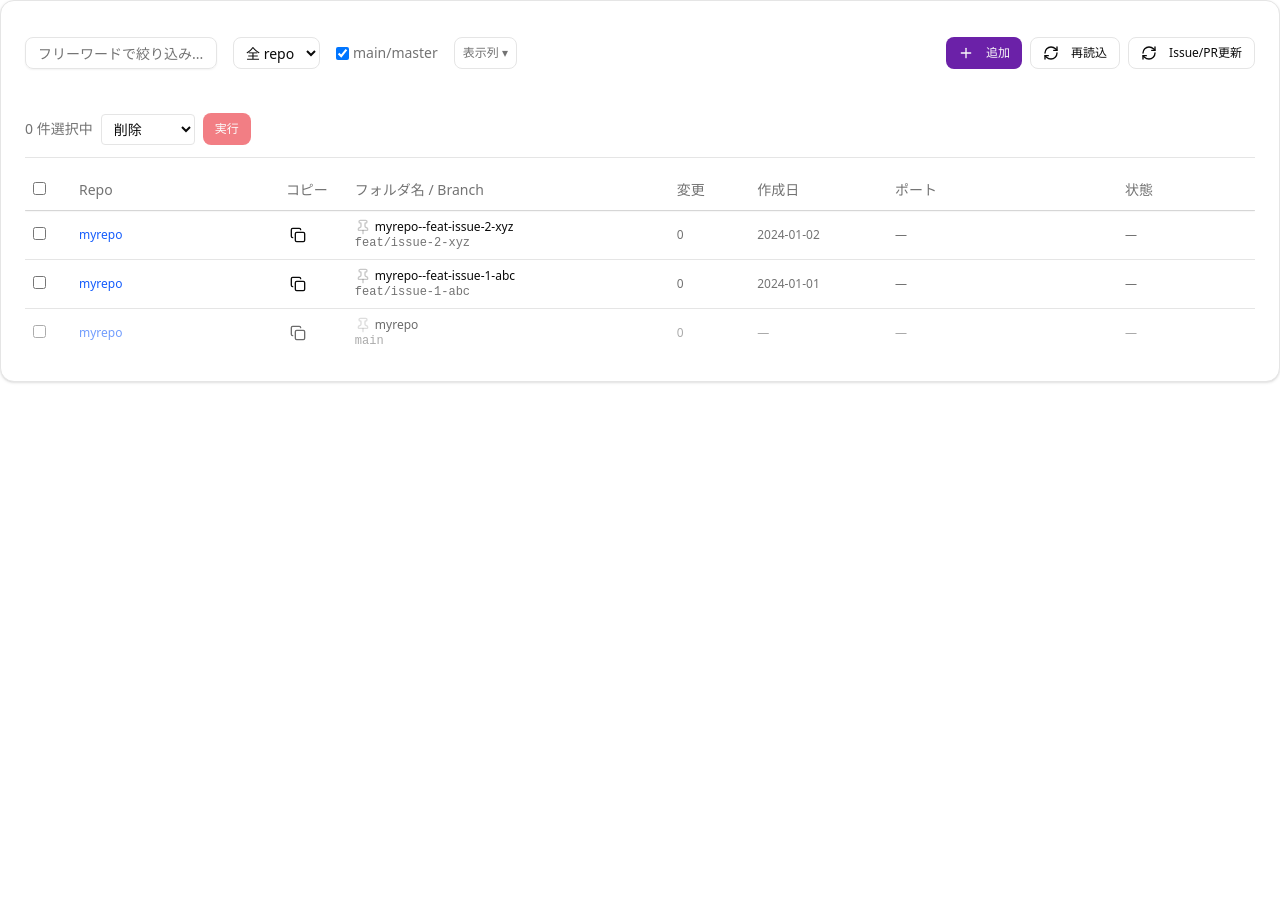
it: TreesPage - main は削除対象外 › main と非 main を選択して削除すると非 main のみ確認に出る
Click the checkbox named "myrepo/myrepo を選択". click: (40, 331)
box: [33, 324, 46, 338]
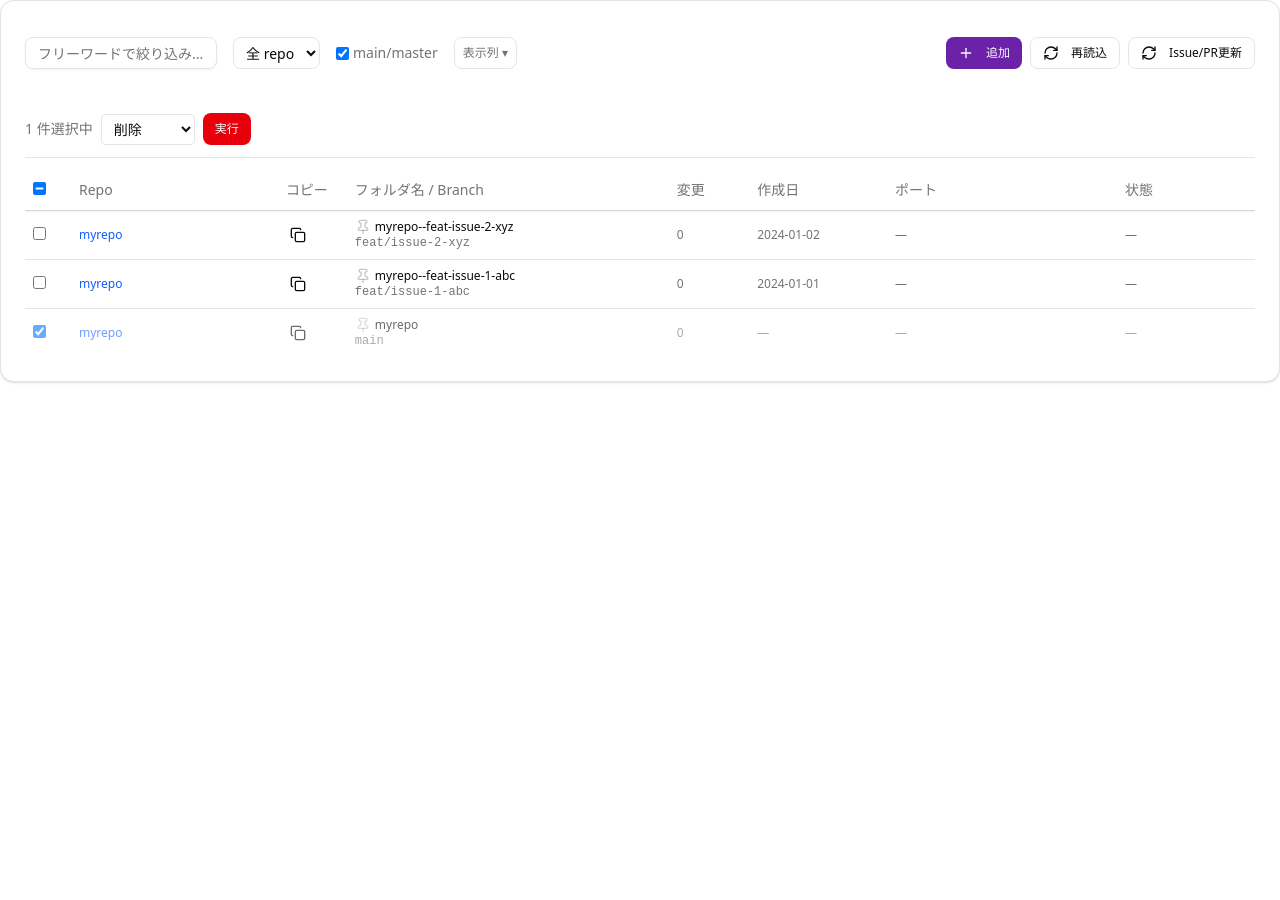
Click the checkbox named "myrepo/myrepo--feat-issue-1-abc を選択". click: (40, 282)
box: [33, 276, 46, 288]
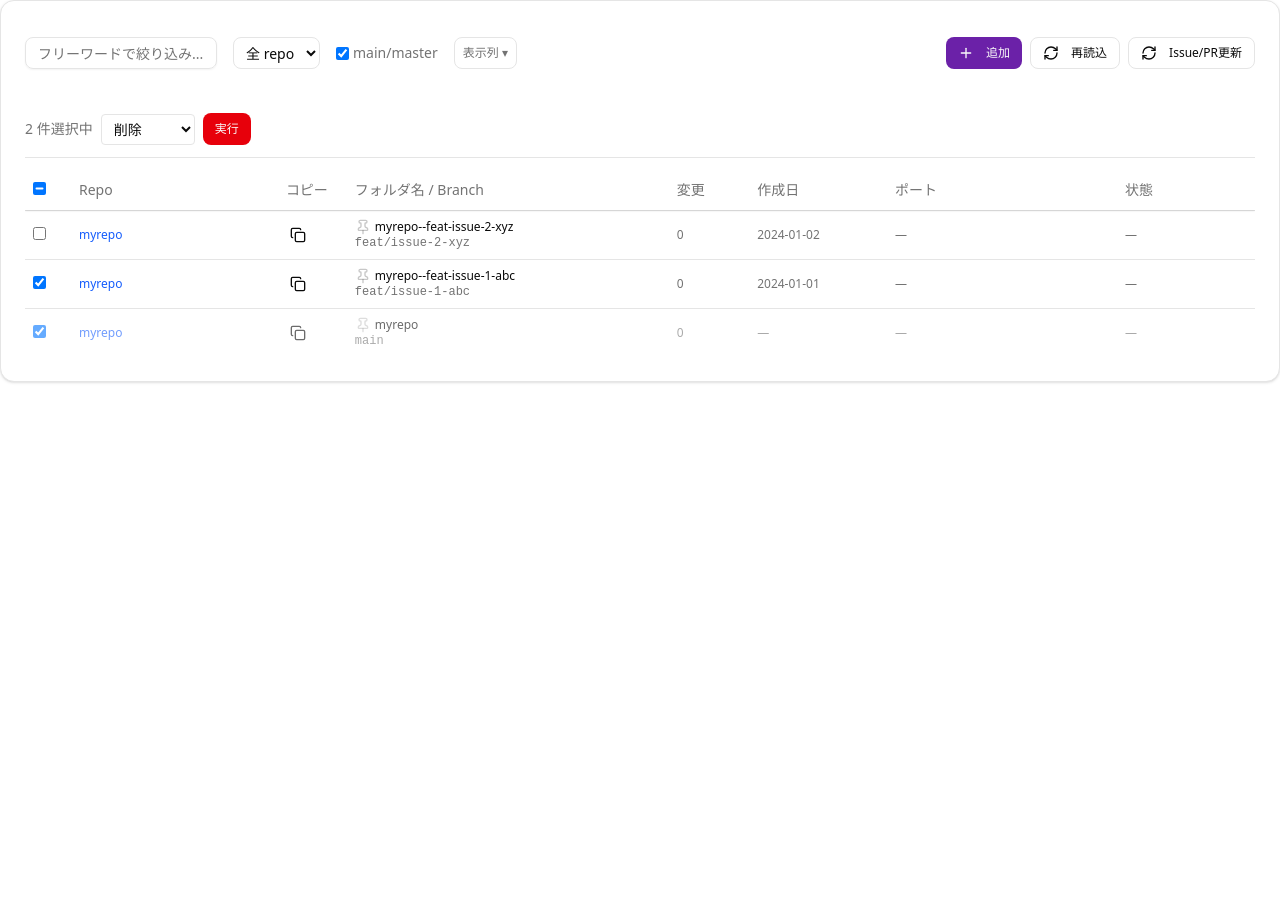
Click the button "実行". click: (227, 129)
box: [203, 113, 251, 145]
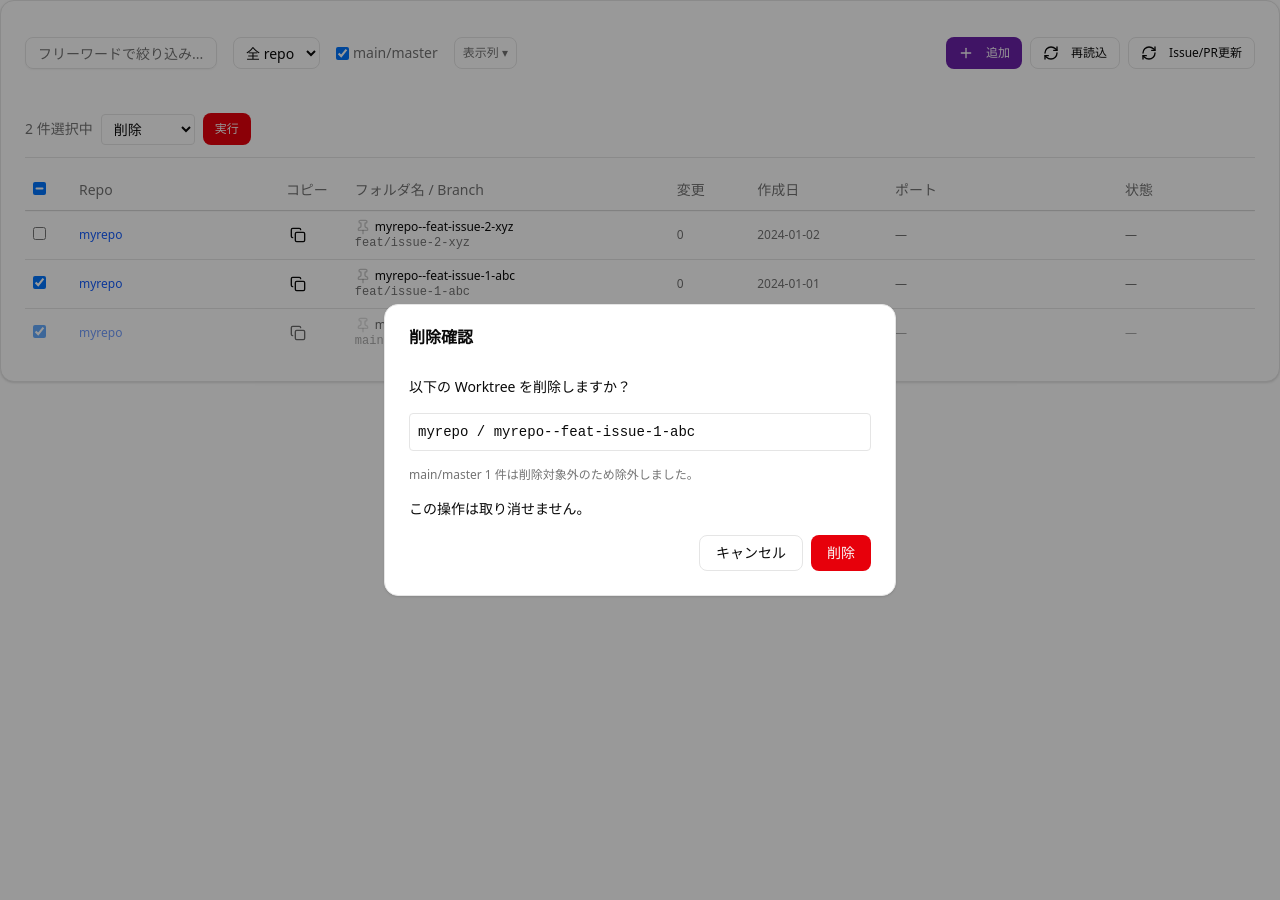
Expected: the text "削除確認" is shown, [409, 326, 473, 348]
Expected: the list item "myrepo / myrepo--feat-issue-1-abc" is shown, [418, 424, 695, 440]
Expected: the text "main/master 1 件は削除対象外のため除外しました。" is shown, [409, 466, 699, 483]
